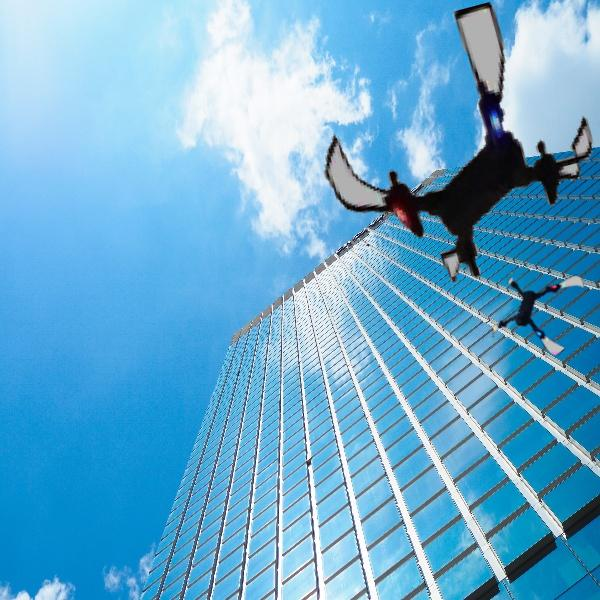drone: (321, 16, 600, 295), (491, 264, 586, 359)
